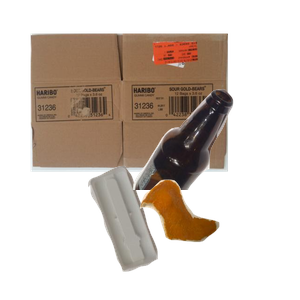cardboard: (28, 31, 249, 195)
glass: (130, 87, 300, 267)
plastic: (85, 163, 235, 300)
trash: (137, 177, 300, 300)
